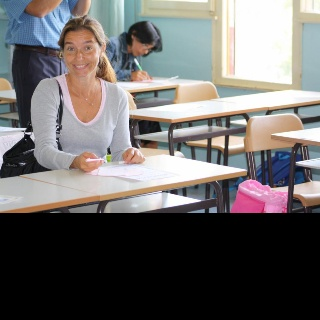without_mask: (63, 29, 100, 77), (131, 36, 154, 56)
